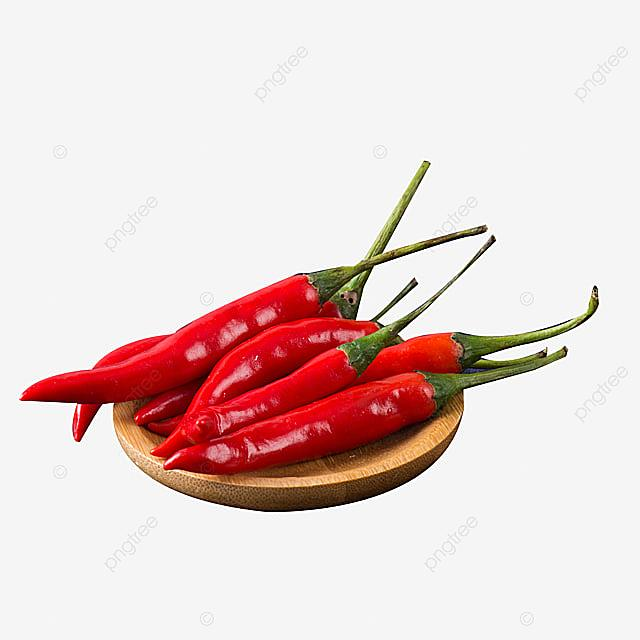red chili: (20, 226, 487, 404), (151, 276, 460, 458), (164, 347, 568, 476), (187, 318, 380, 414)
